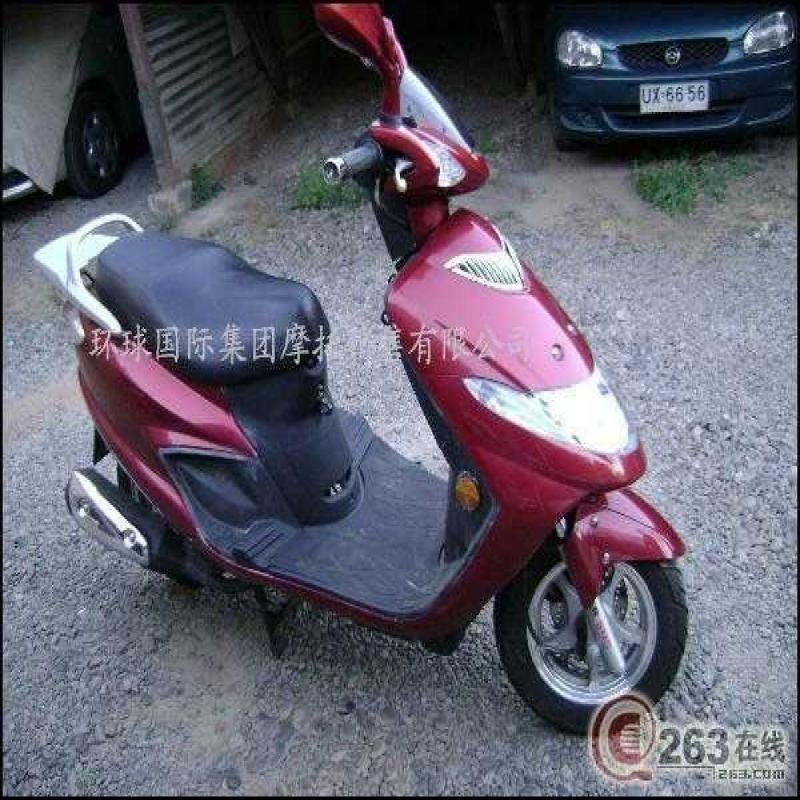bike: (45, 0, 720, 690)
